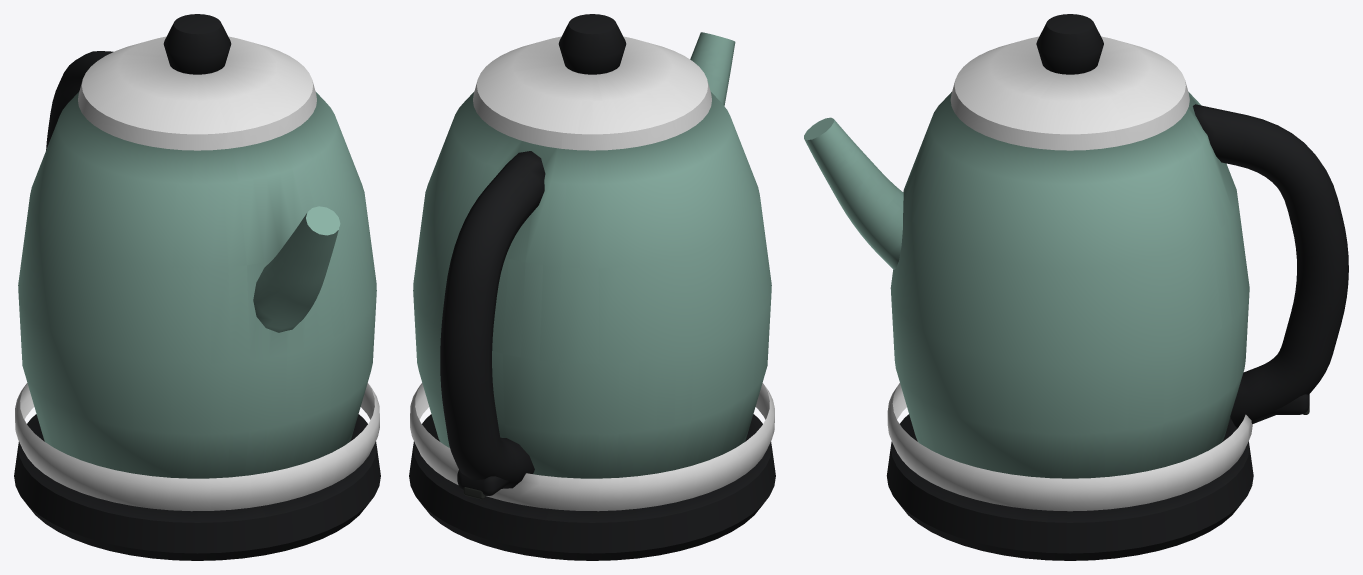
The model's file is kettle.glb.
The picture shows the model from 3 angles, left to right: view 1: azimuth 30°, elevation 25°; view 2: azimuth 150°, elevation 25°; view 3: azimuth 270°, elevation 25°; orthographic projection.
Parts seen in each view (by area): view 1: Body; view 2: Body; view 3: Body.
Part boxes in pixels (bbox=[...]): Body: bbox=[14, 14, 380, 560]; Body: bbox=[409, 14, 775, 560]; Body: bbox=[804, 14, 1348, 560].
Bounding box in the file's own units: 0.184 × 0.258 × 0.2732.
